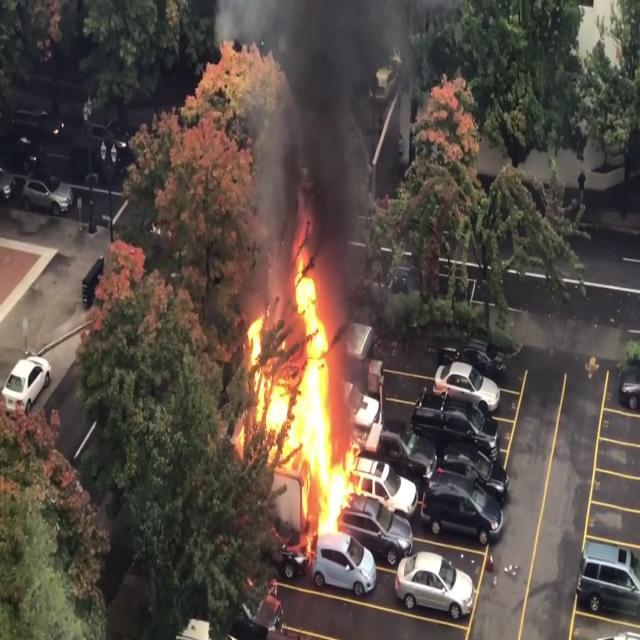Fire: (236, 240, 357, 548)
Smoke: (245, 0, 397, 284)
